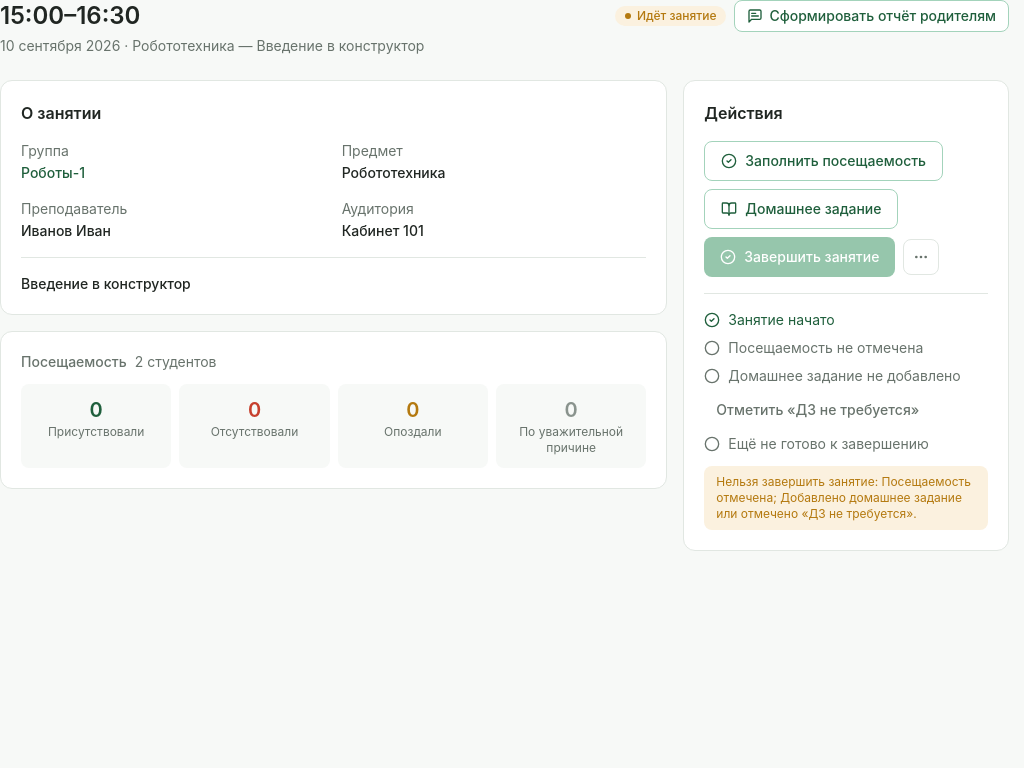
LessonDetailPage › in-progress lesson › opens the add-homework modal when "Домашнее задание" is clicked and none exists yet
This screenshot has width=1024, height=768.
Click the button "Домашнее задание".
click(801, 209)  # box [704, 189, 898, 229]
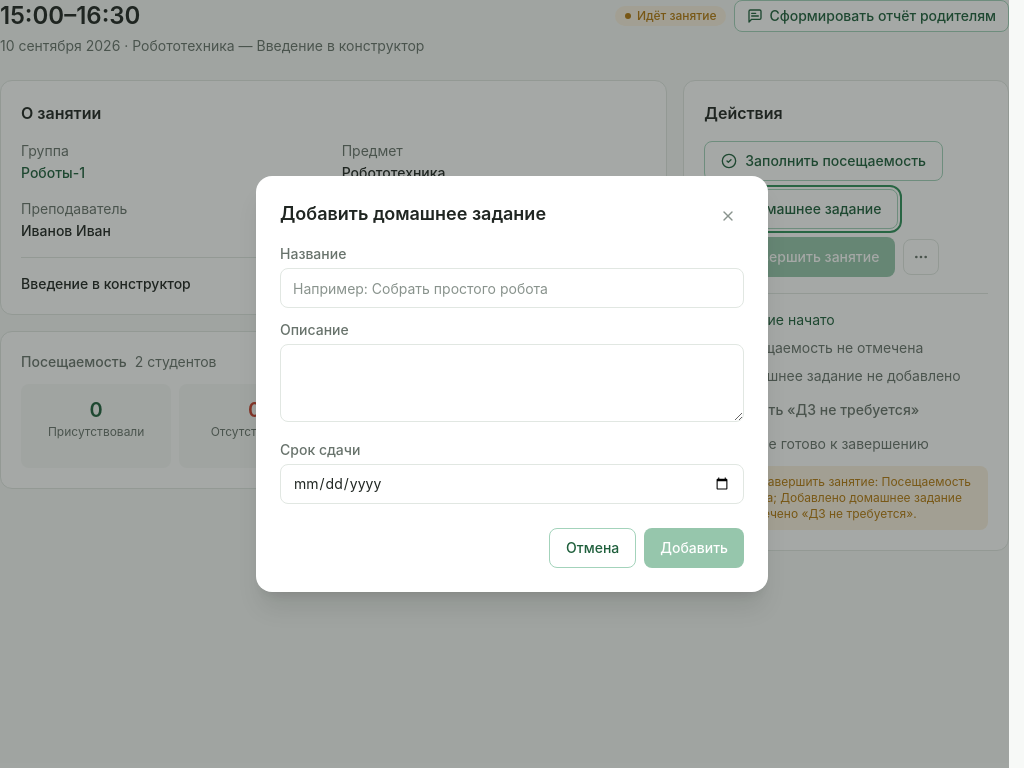
Result: the dialog "Добавить домашнее задание" is shown at [256, 176, 768, 592]
